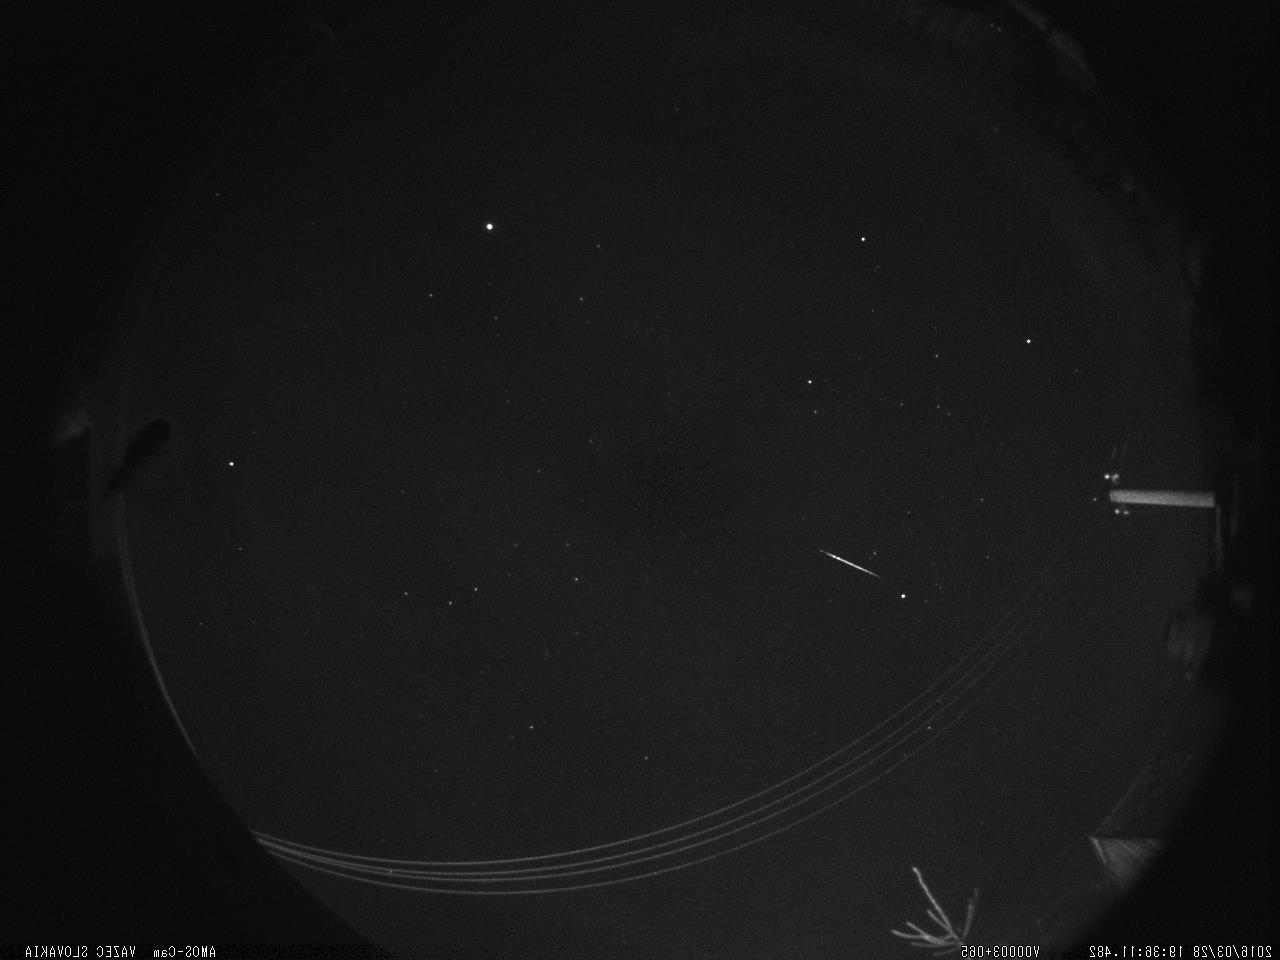meteor: (815, 541, 890, 586)
